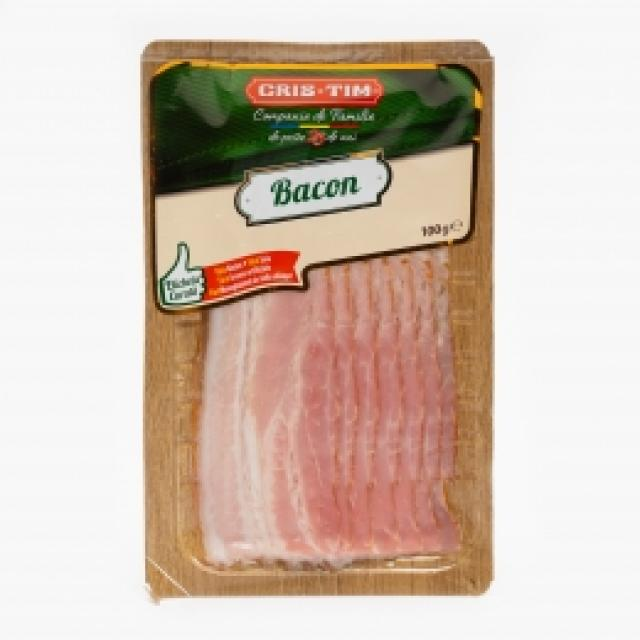bacon: (137, 34, 492, 600)
